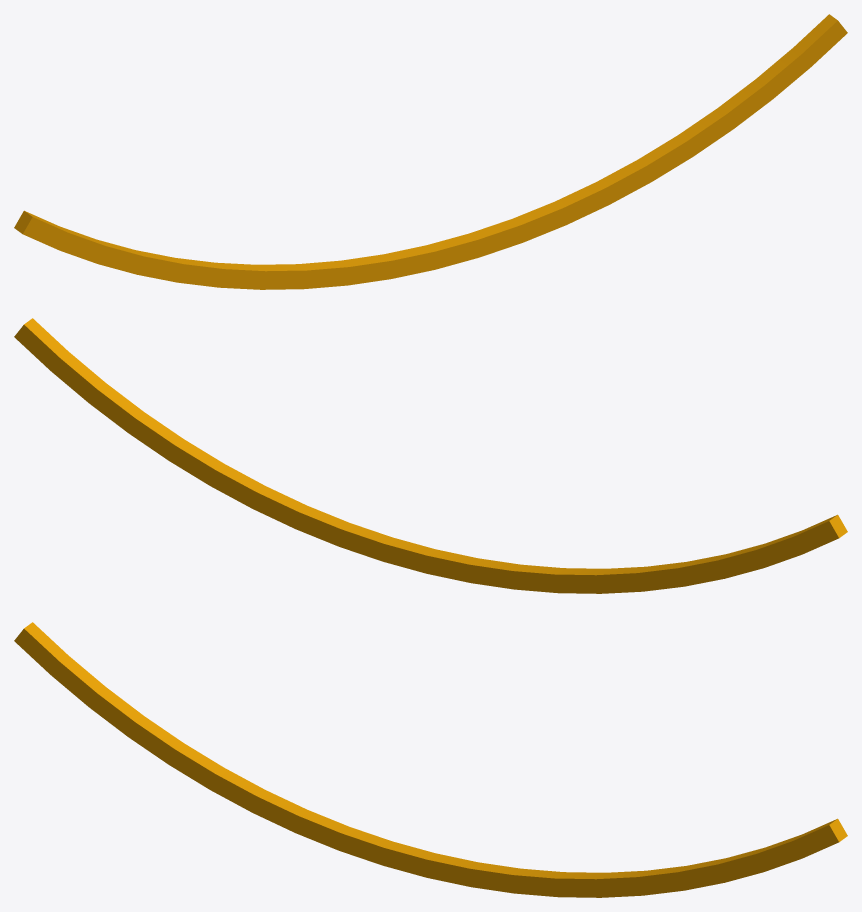
The model's file is L_Rope_A_02.fbx.
The picture shows the model from 3 angles, top to bottom: view 1: azimuth 30°, elevation 25°; view 2: azimuth 150°, elevation 25°; view 3: azimuth 330°, elevation 25°; orthographic projection.
Parts seen in each view (by area): view 1: L_Rope_A_02; view 2: L_Rope_A_02; view 3: L_Rope_A_02.
Part boxes in pixels (left/top/right/bottom): L_Rope_A_02: left=14, top=14, right=847, bottom=289; L_Rope_A_02: left=14, top=318, right=847, bottom=593; L_Rope_A_02: left=14, top=622, right=847, bottom=897.
Size of the model in its own units: 395 by 69.06 by 7.22.
